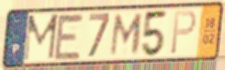5: (139, 9, 172, 59)
7: (86, 12, 113, 60)
E: (53, 13, 86, 62)
M: (21, 12, 60, 64), (108, 13, 145, 58)
P: (169, 9, 198, 57)
